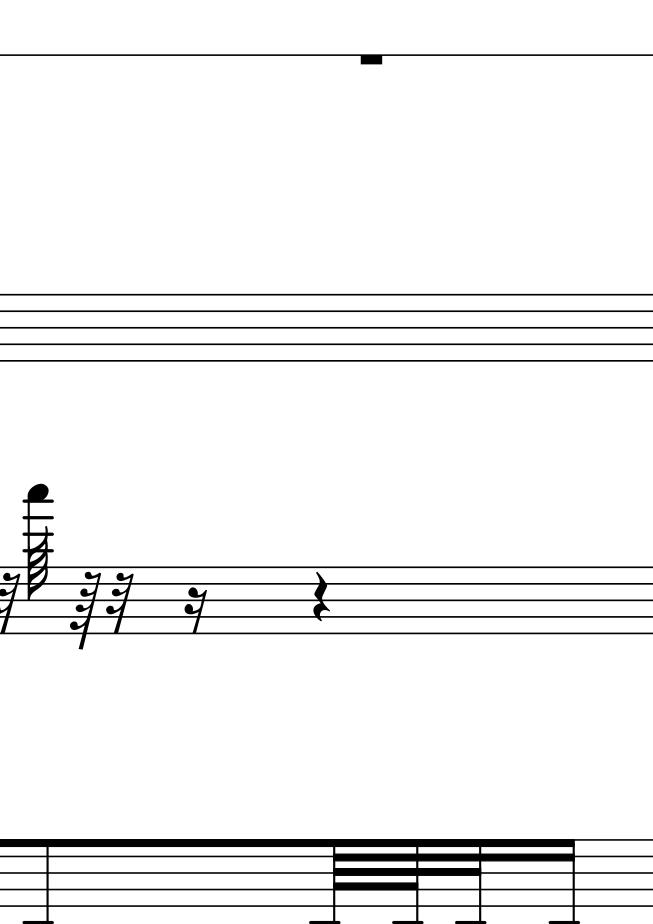Rests1: (355, 50, 387, 73)
Rests16: (105, 571, 133, 637), (183, 586, 208, 636)
Rests4: (310, 571, 331, 625)
Rests64: (68, 571, 102, 650)
